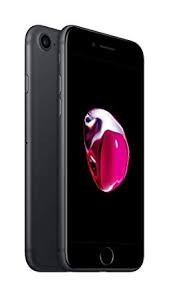iphone: (53, 24, 145, 272)
iphone7: (55, 26, 145, 271)
